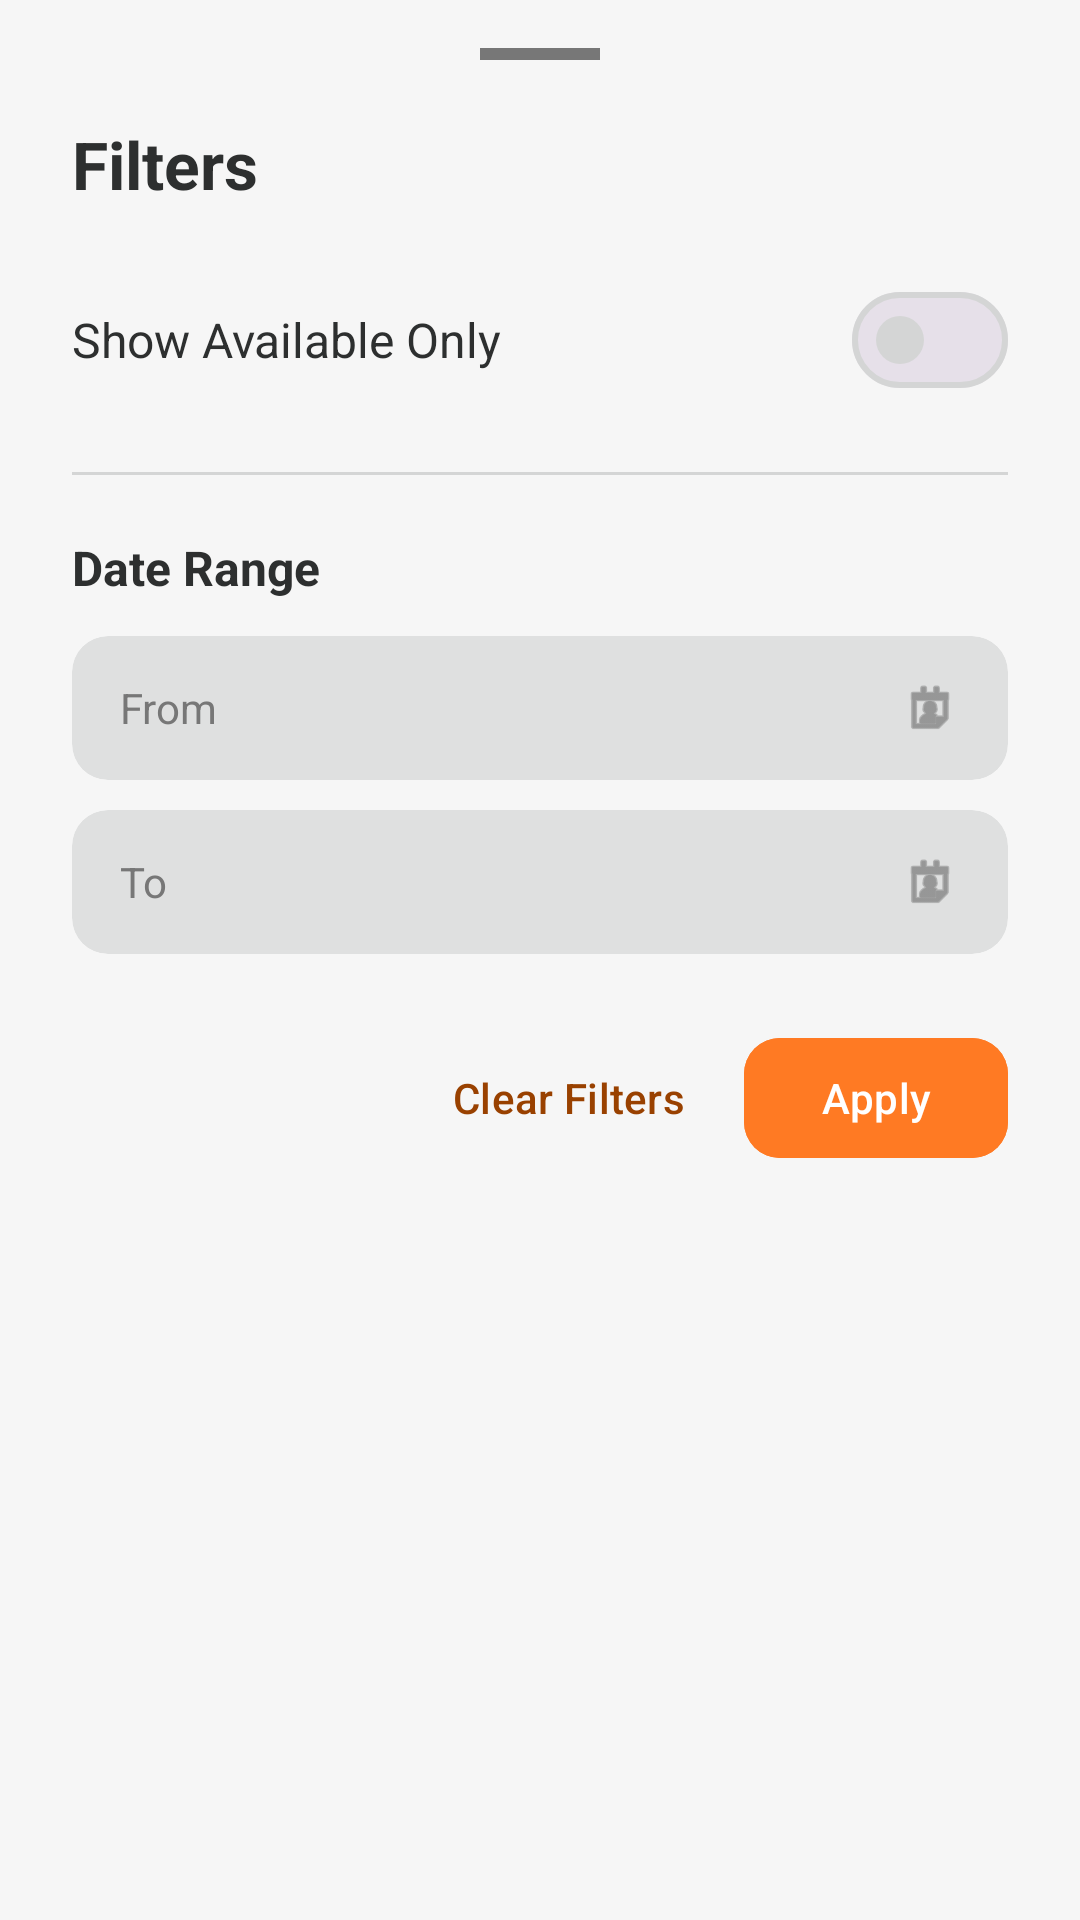

Named icons in this screenshot (1080×1920) and their bounding boxes, (x1, y1, x2, y2):
Select date: (911, 686, 949, 729), (911, 860, 949, 903)
